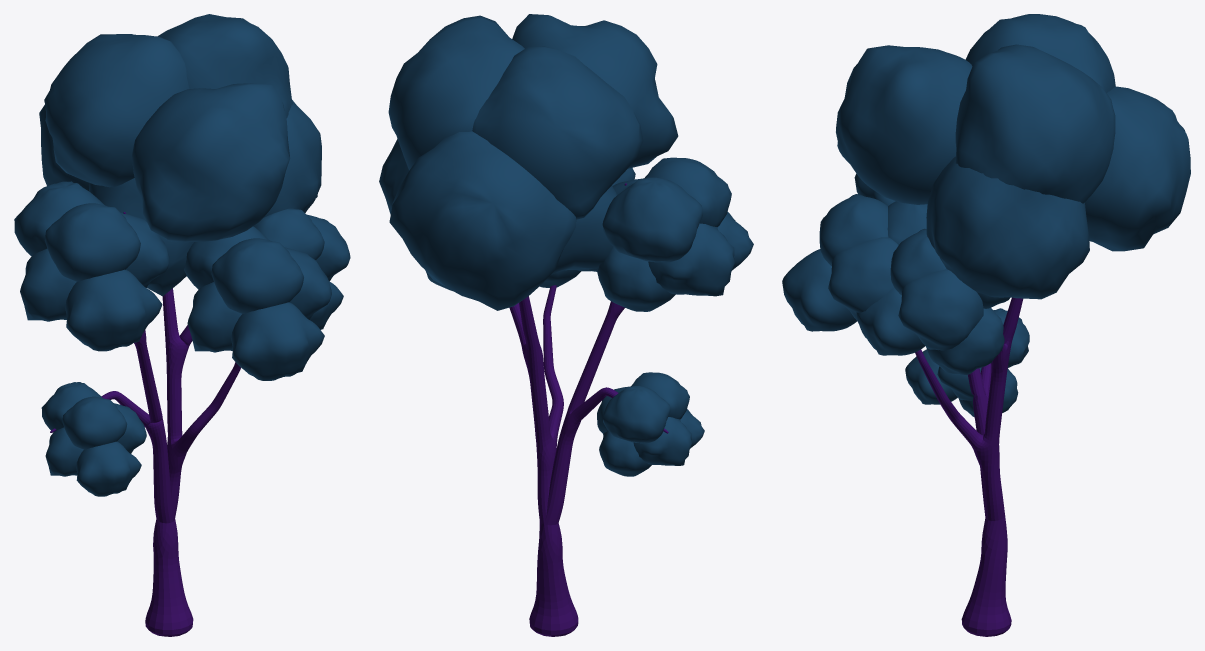
The model's file is Baloncuk Ağaç.fbx.
3 renders of one model, left to right at view 1: azimuth 30°, elevation 25°; view 2: azimuth 150°, elevation 25°; view 3: azimuth 270°, elevation 25°, orthographic. The views are drawn at different scales.
Visible parts, largest first — view 1: agac_yapraklar, agac_govde; view 2: agac_yapraklar, agac_govde; view 3: agac_yapraklar, agac_govde.
Boxes of the visible parts, x1,y1,x2,y2 form: agac_yapraklar: [14, 14, 350, 496]; agac_govde: [50, 212, 240, 636]; agac_yapraklar: [379, 14, 753, 476]; agac_govde: [509, 183, 668, 636]; agac_yapraklar: [782, 14, 1190, 417]; agac_govde: [915, 297, 1023, 636].
Size of the model in its own units: 507 by 915 by 554.
